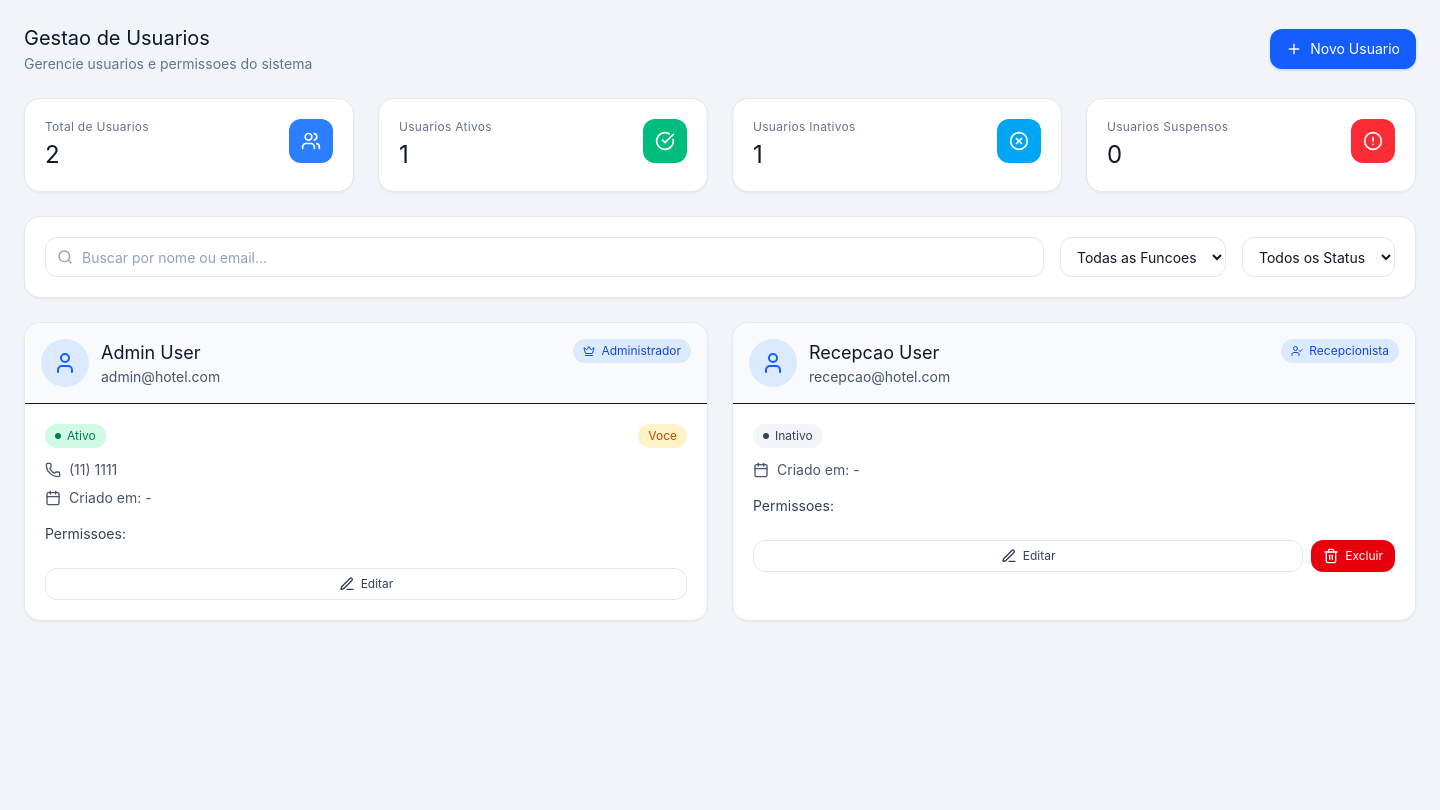
Usuarios (expanded) › opens new user modal
Click the button "Novo Usuario" at point(1343, 49), box [1270,29,1416,69]
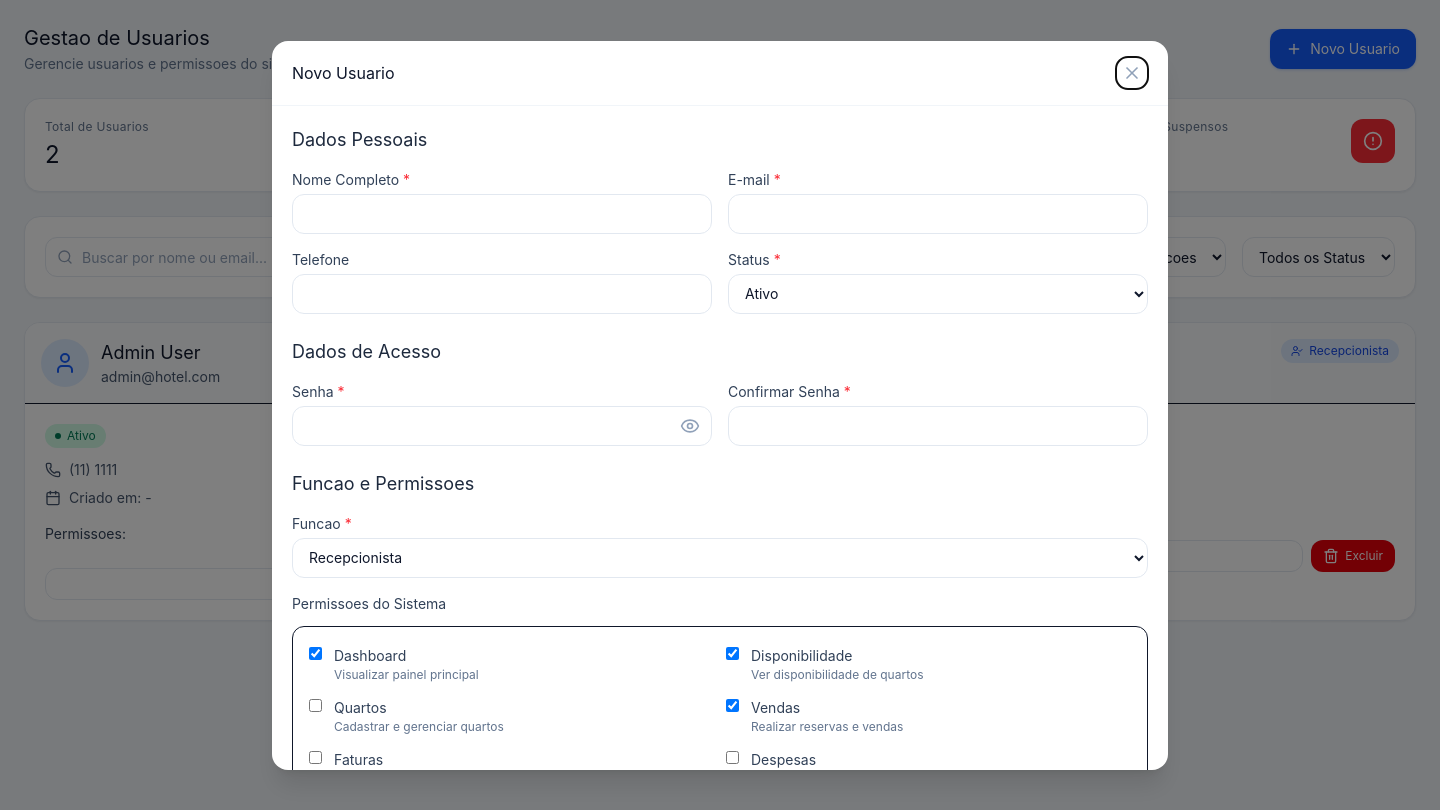
Expected: the text "Nome Completo *" is shown, [292,170,410,188]
